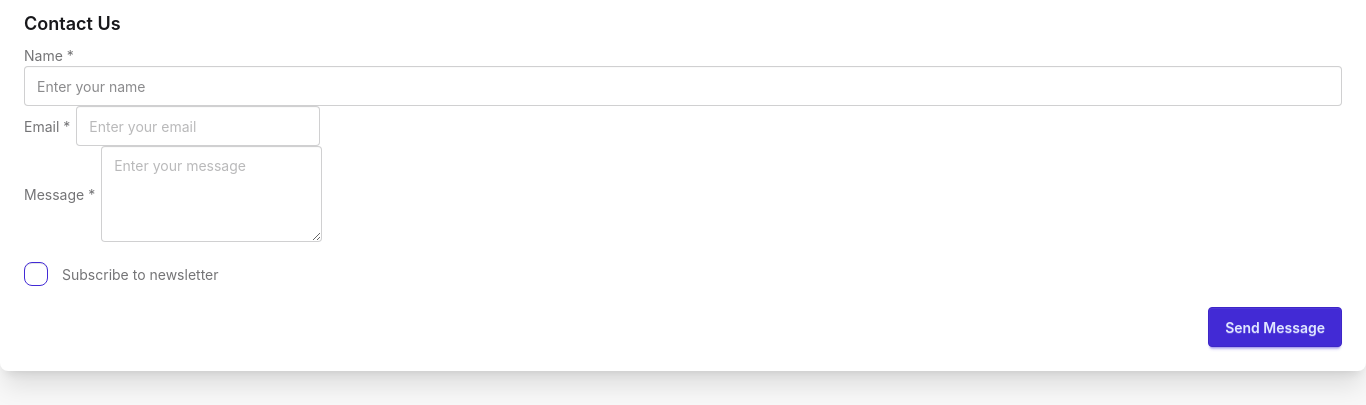
Test case: ContactForm › validation errors › shows "Email is required" when email is empty
Type "Guybrush" into the field labelled "Name *". click: (683, 86)
box: [24,66,1342,106]
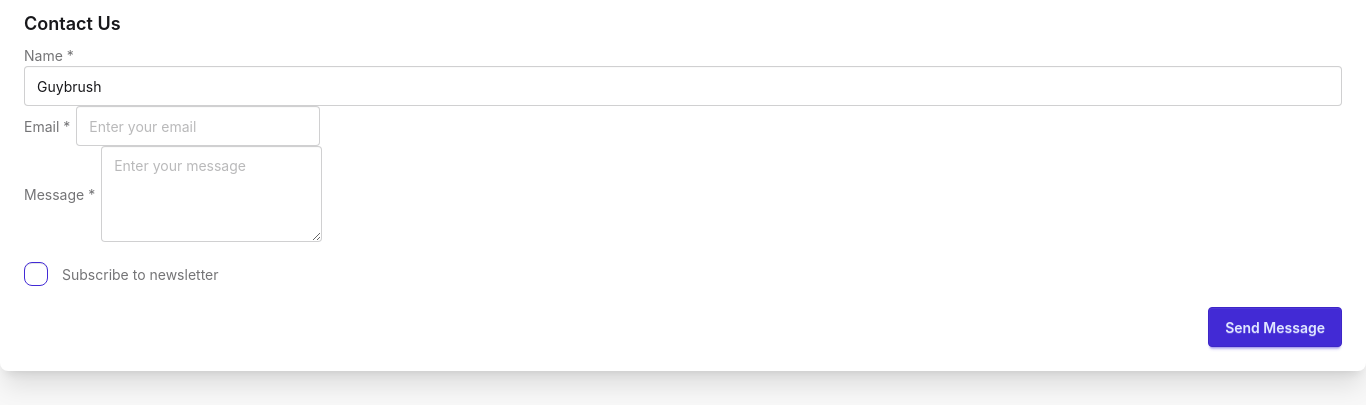
Type "Hello" into the text box labelled "Message *". click: (212, 194)
box: [101,146,322,242]
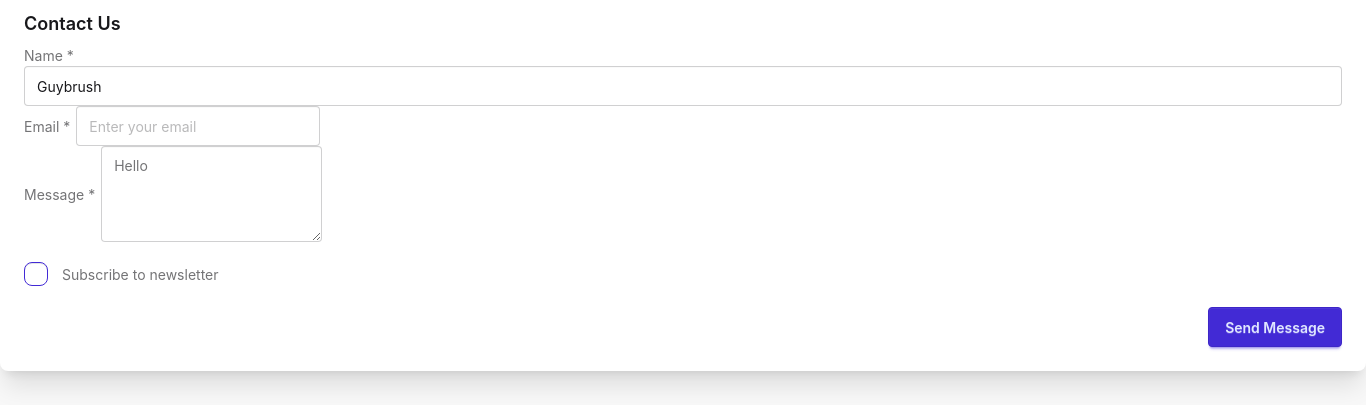
Click the button "Send Message". click: (1275, 327)
box: [1208,307,1342,347]
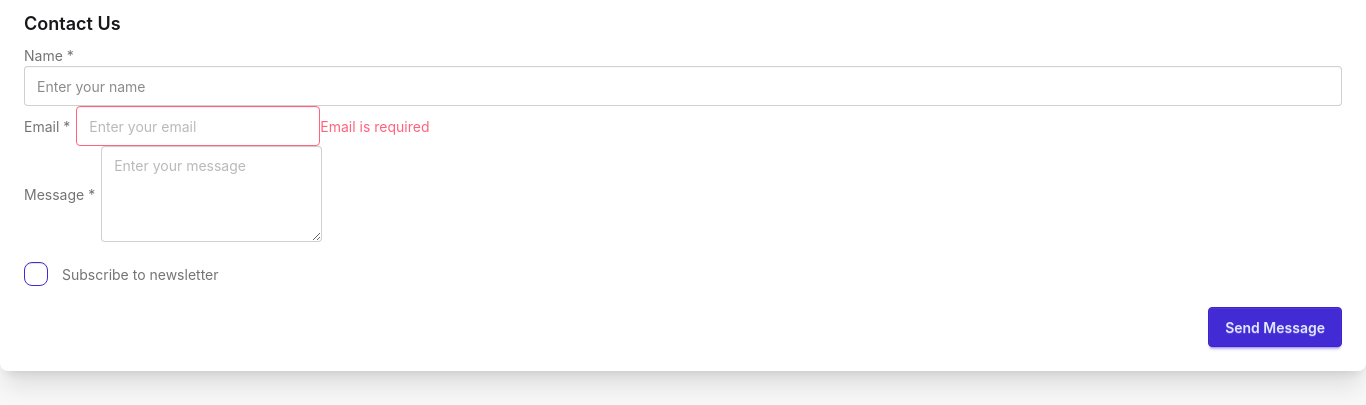
Expected: the text "Email is required" is shown, [320,116,430,136]
